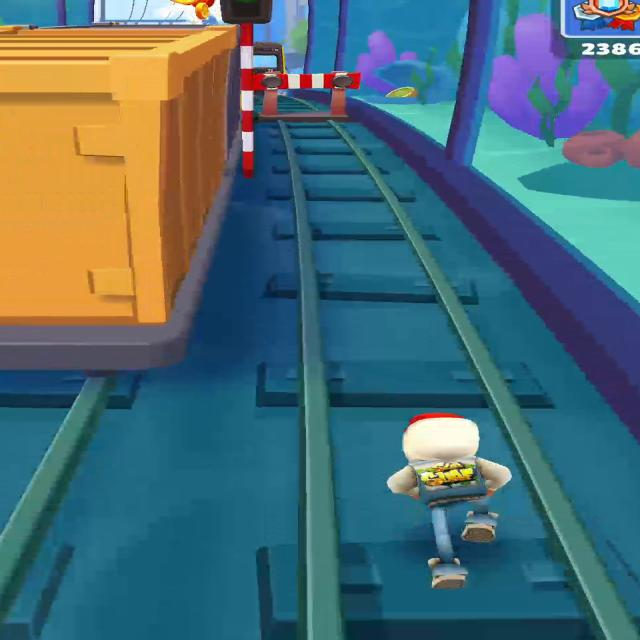blocker: (254, 71, 360, 119)
train: (0, 26, 239, 369)
